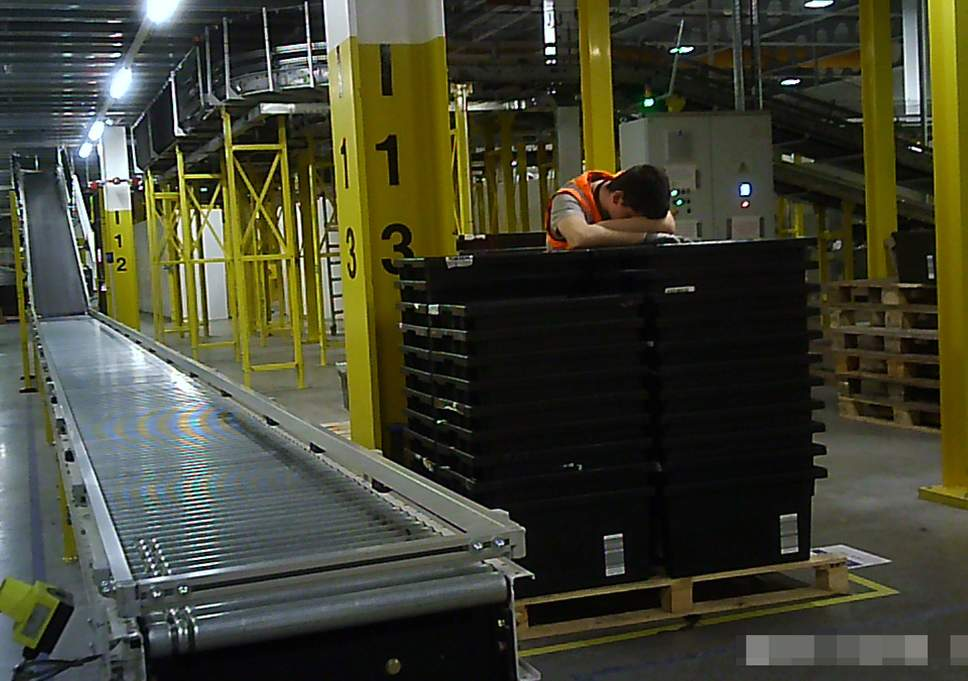noepi: (545, 164, 684, 262)
